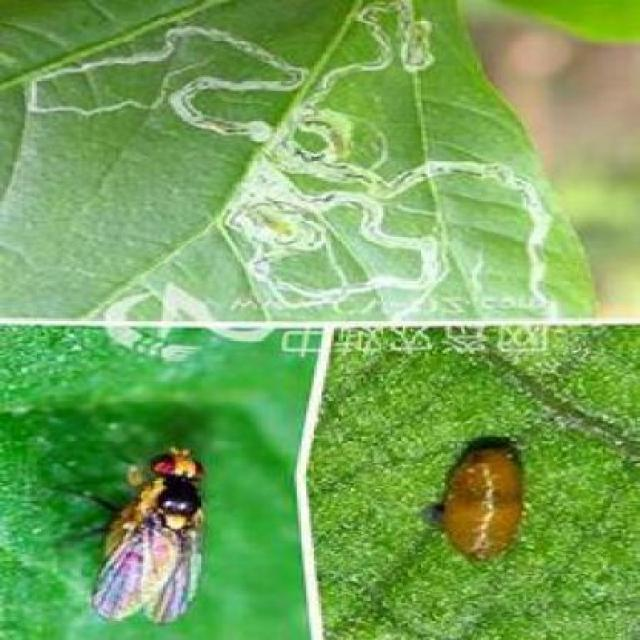whorl-maggot: (434, 434, 534, 572)
